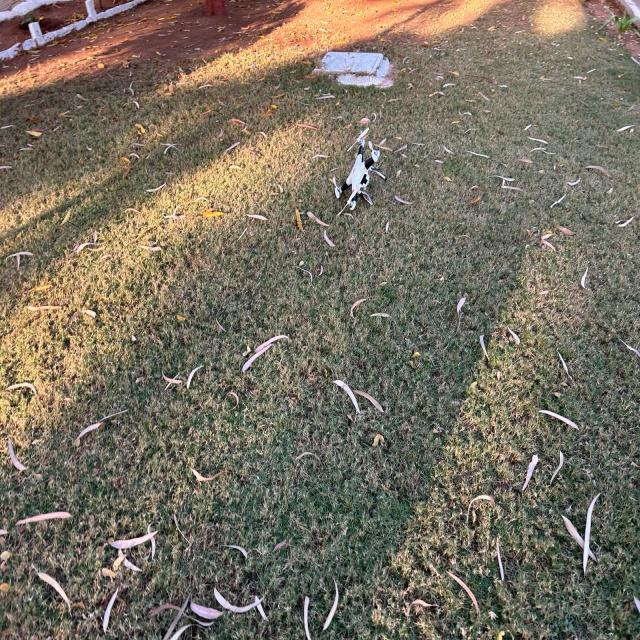drone: (297, 111, 424, 230)
